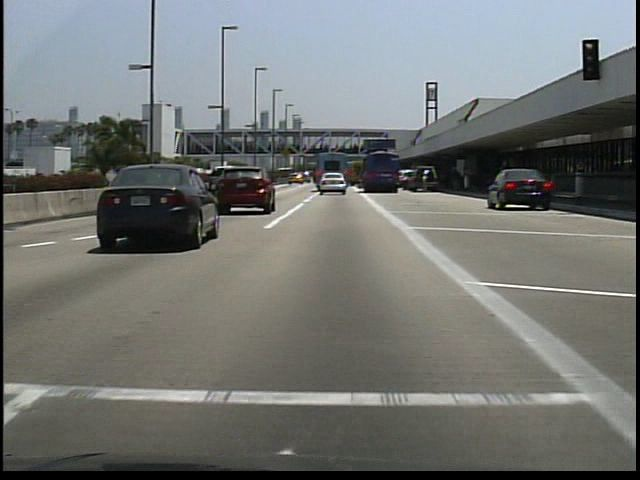person: (448, 165, 464, 197)
